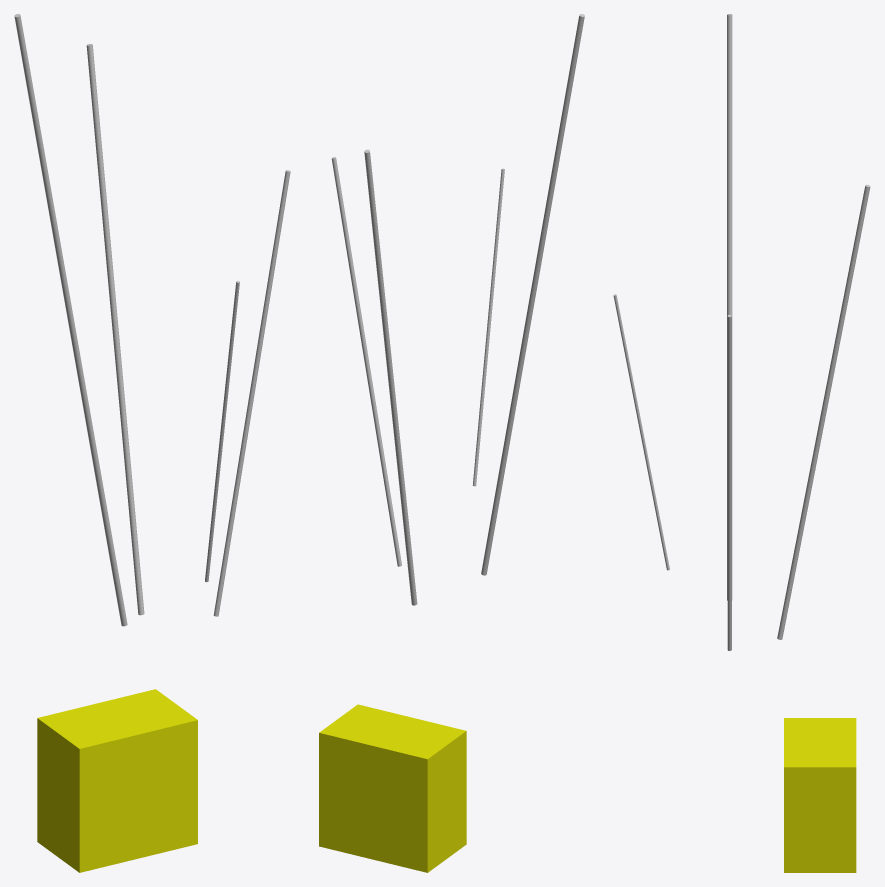
Rendered from Satellite Kit radio 1.glb.
The picture shows the model from 3 angles, left to right: view 1: azimuth 30°, elevation 25°; view 2: azimuth 150°, elevation 25°; view 3: azimuth 270°, elevation 25°; orthographic projection. The views are drawn at different scales.
Parts seen in each view (by area): view 1: pCube1, pCylinder4, pCylinder2, pCylinder3, pCylinder1; view 2: pCube1, pCylinder4, pCylinder2, pCylinder3, pCylinder1; view 3: pCube1, pCylinder2, pCylinder4, pCylinder3, pCylinder1.
Part boxes in pixels (bbox=[...]): pCube1: bbox=[37, 689, 197, 872]; pCylinder4: bbox=[14, 14, 127, 626]; pCylinder2: bbox=[86, 44, 144, 615]; pCylinder3: bbox=[213, 170, 290, 616]; pCylinder1: bbox=[205, 280, 239, 582]; pCube1: bbox=[319, 704, 466, 872]; pCylinder4: bbox=[481, 14, 584, 575]; pCylinder2: bbox=[364, 149, 417, 605]; pCylinder3: bbox=[331, 157, 401, 566]; pCylinder1: bbox=[472, 168, 504, 486]; pCube1: bbox=[784, 718, 856, 872]; pCylinder2: bbox=[777, 184, 870, 639]; pCylinder4: bbox=[727, 14, 732, 600]; pCylinder3: bbox=[727, 314, 731, 650]; pCylinder1: bbox=[613, 294, 669, 570].
Bounding box in the file's own units: 0.0465 × 0.1459 × 0.0441.
